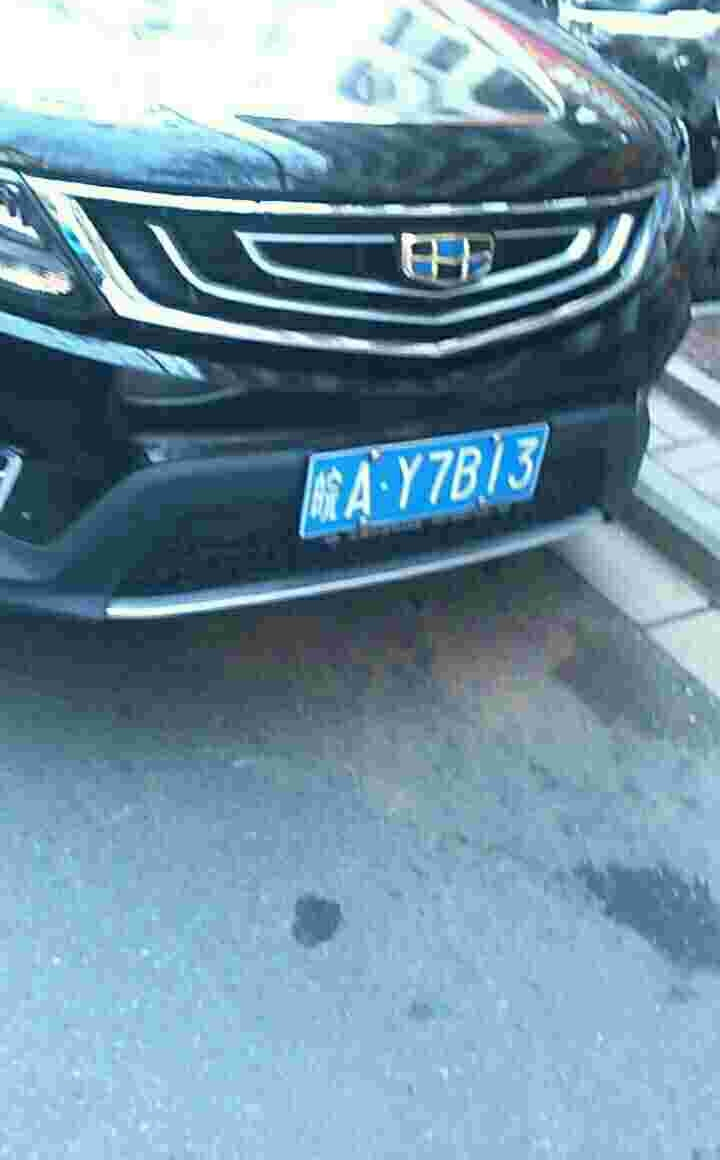license_plate: (310, 425, 542, 535)
